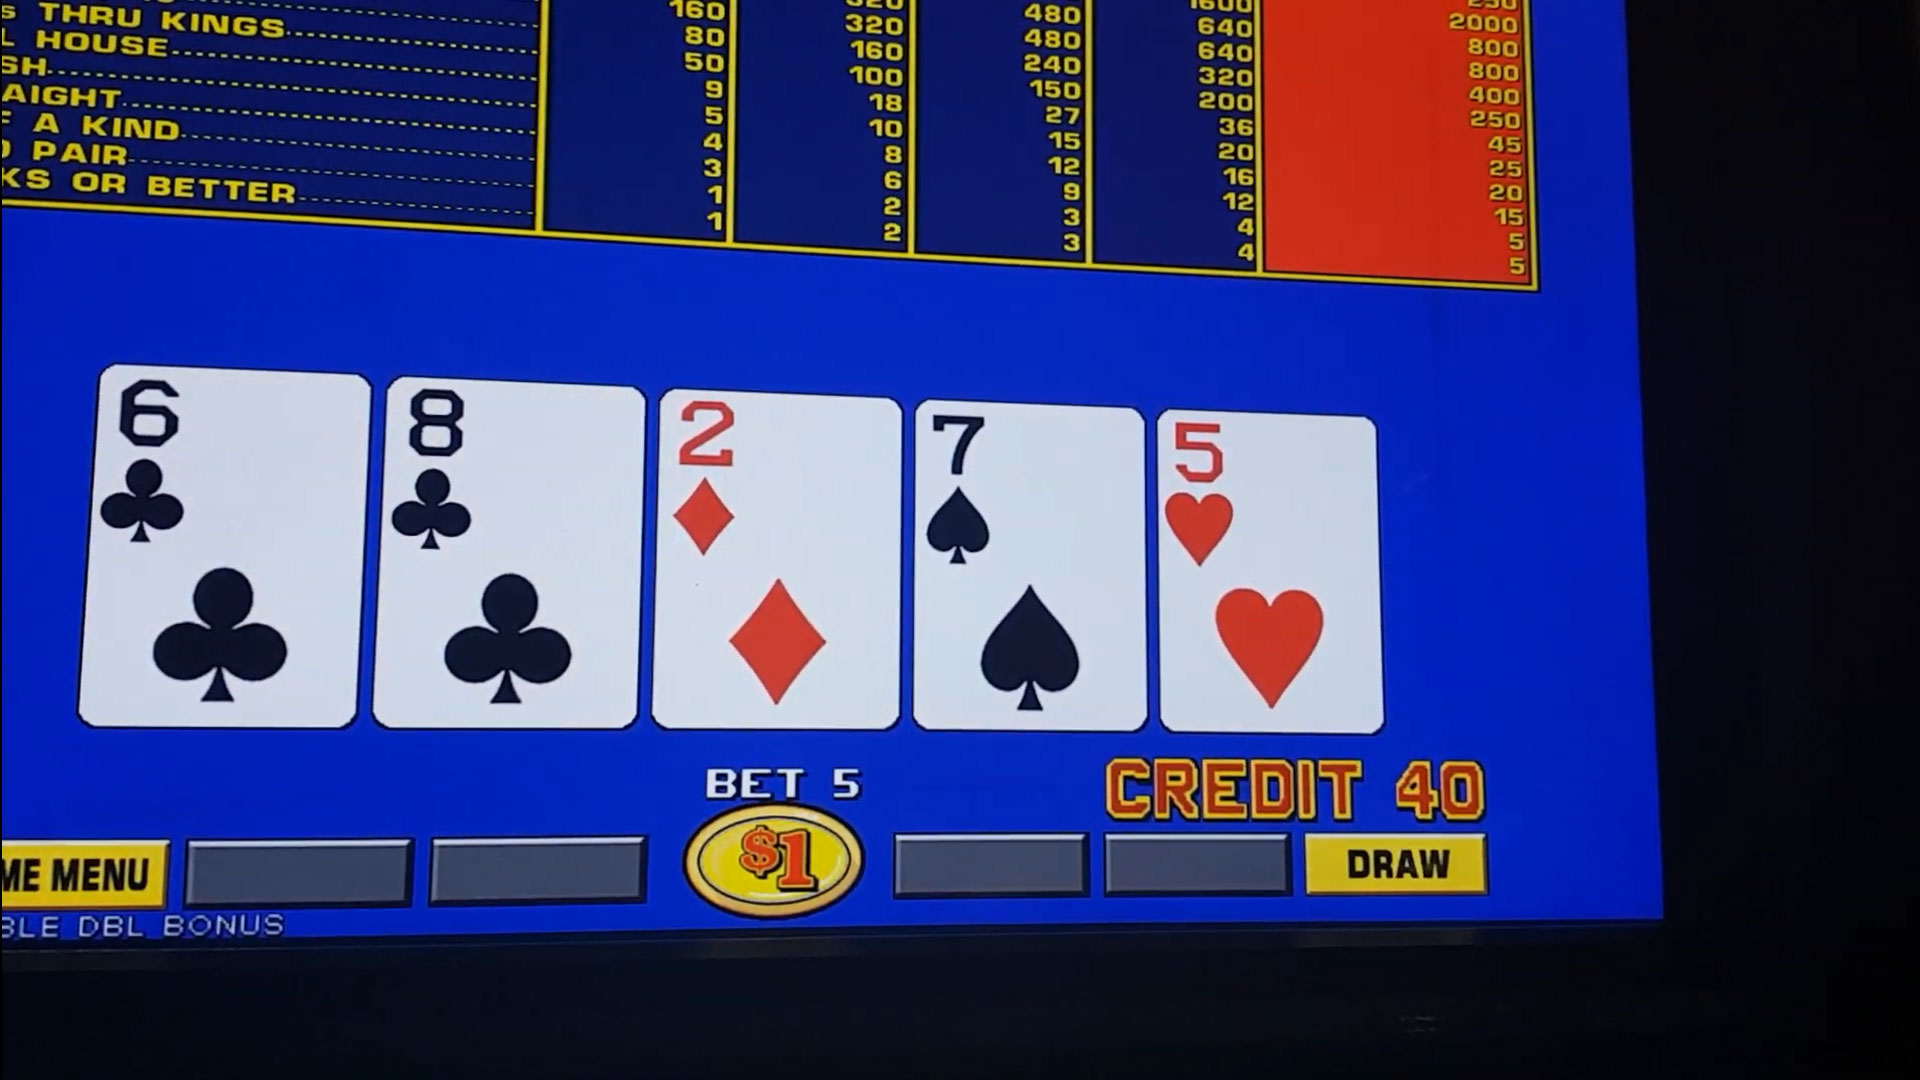C6: (96, 378, 357, 559)
C8: (397, 389, 636, 562)
D2: (662, 396, 894, 574)
H5: (1164, 421, 1371, 578)
S7: (916, 407, 1138, 582)
